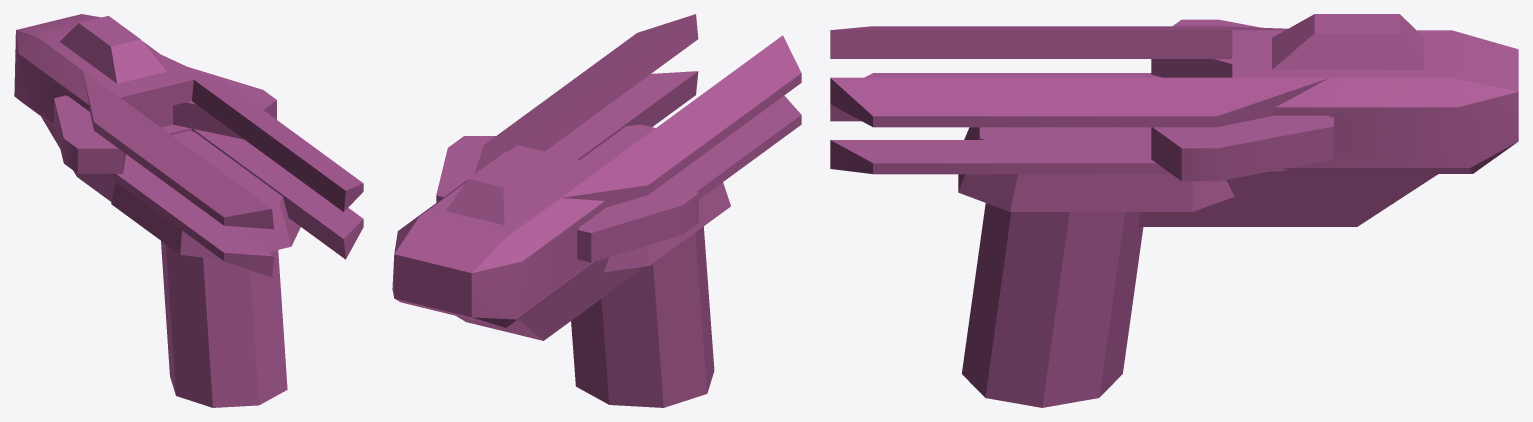
Rendered from Ripper.obj.
3 renders of one model, left to right at view 1: azimuth 30°, elevation 25°; view 2: azimuth 150°, elevation 25°; view 3: azimuth 270°, elevation 25°, orthographic. The views are drawn at different scales.
Visible parts, largest first — view 1: ripper; view 2: ripper; view 3: ripper.
Part boxes in pixels (left/top/right/bottom): ripper: left=14, top=14, right=363, bottom=407; ripper: left=392, top=14, right=801, bottom=407; ripper: left=830, top=14, right=1518, bottom=407.
Bounding box in the file's own units: 0.7781 × 0.9877 × 1.76.
